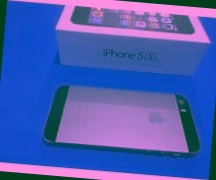iphone: (47, 89, 205, 151)
